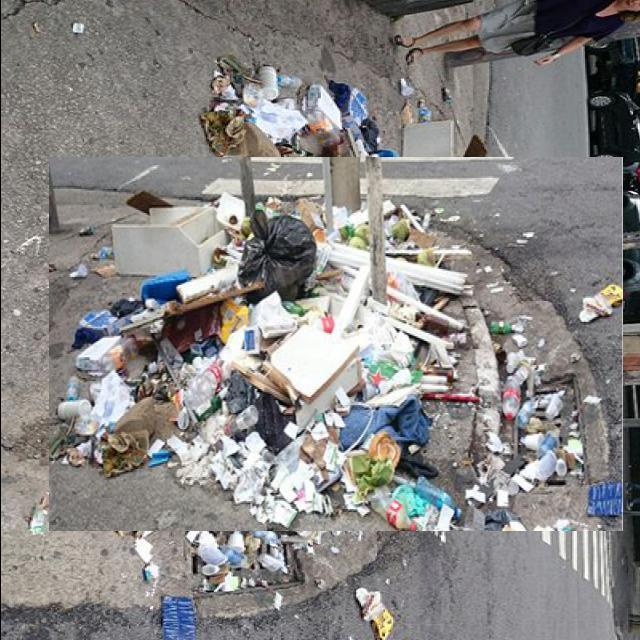Trashbag: (228, 214, 314, 298)
